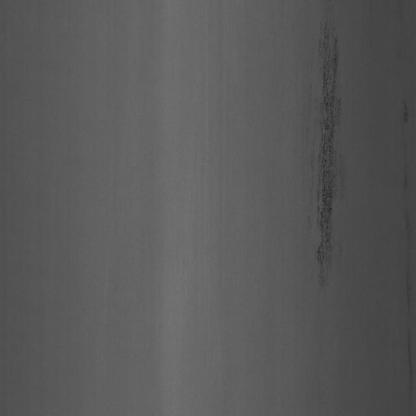inclusion: (304, 20, 353, 286)
